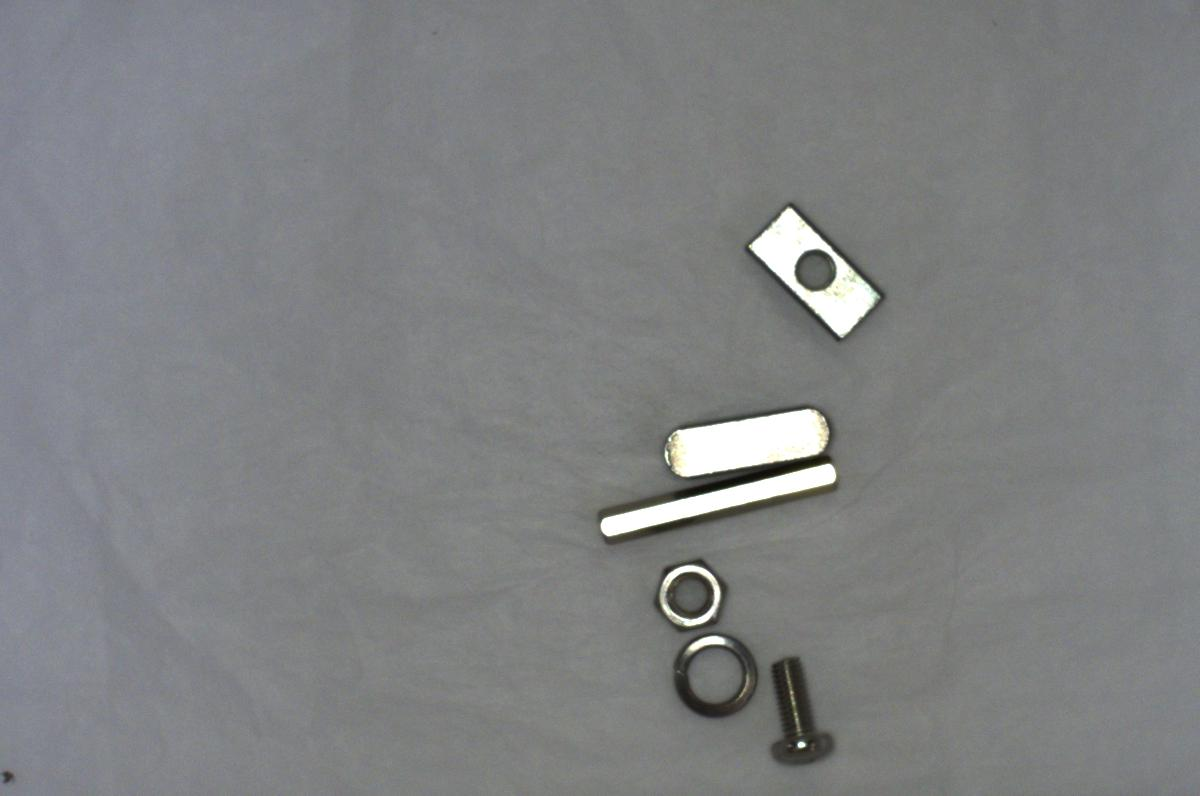Double hexagonal column: (587, 465, 853, 546)
Hexagon nut: (644, 556, 730, 630)
Keybar: (646, 395, 833, 481)
Rectangular nut: (744, 209, 894, 345)
Round head screw: (758, 642, 838, 777)
Spring washer: (670, 632, 762, 721)
